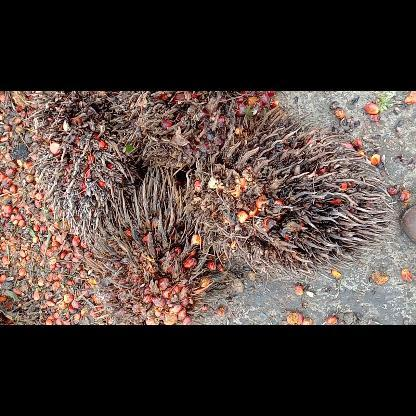Terlalu masak: (183, 102, 399, 284), (82, 164, 230, 324), (24, 90, 146, 246), (107, 91, 237, 177)
